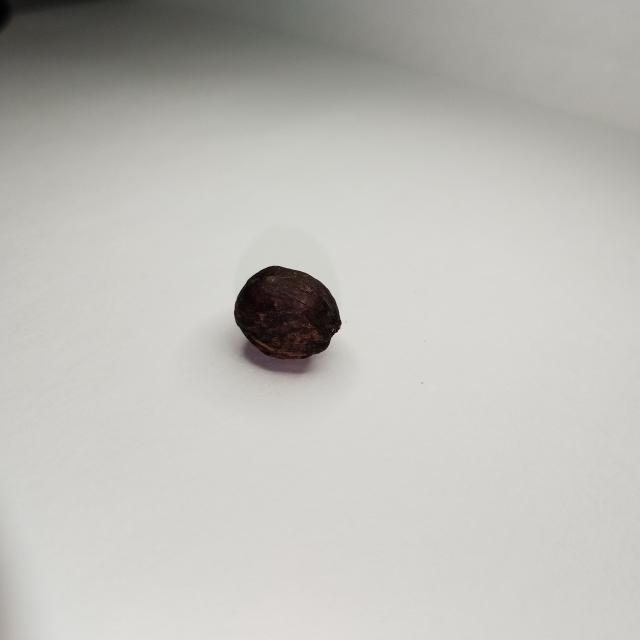Danado: (235, 266, 341, 360)
